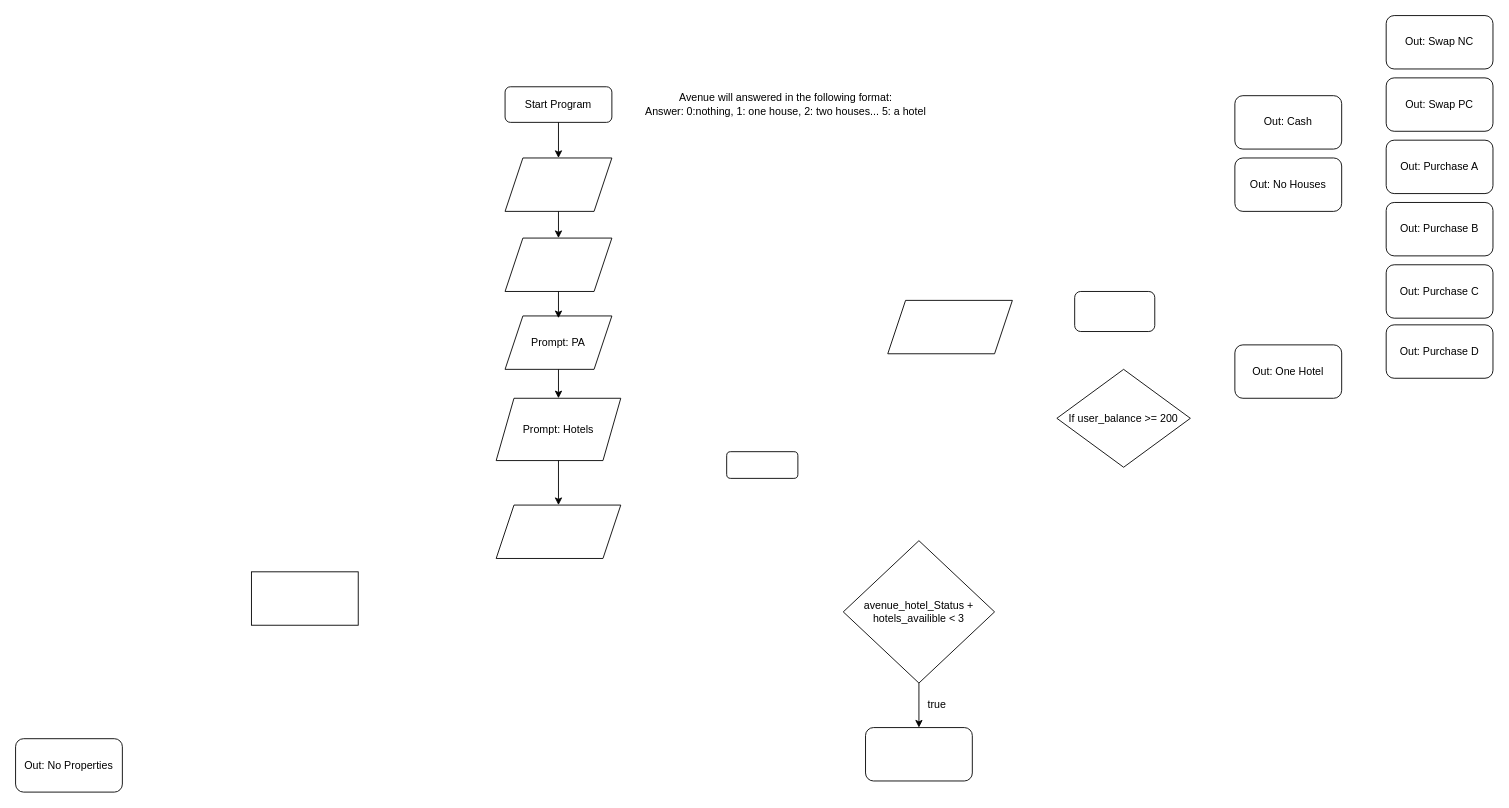
Some shapes in this 1509 by 808 pixel diagram are drawn without their labels. The shapes that lost their labels are listed below. From the top down, each one's centre as x and y in pixels, then its label:
(558,184): Prompt: NC
(558,264): Promt: PA
(949,326): Prompt: Cash
(1114,311): Else: End
(762,464): End
(558,531): Prompt: Color Group
(304,598): Store current avenue status
(918,754): Out: No Hotels
